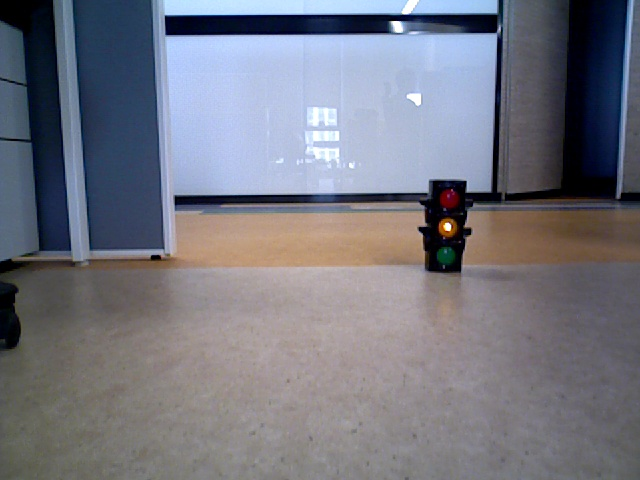yellow: (426, 181, 460, 269)
